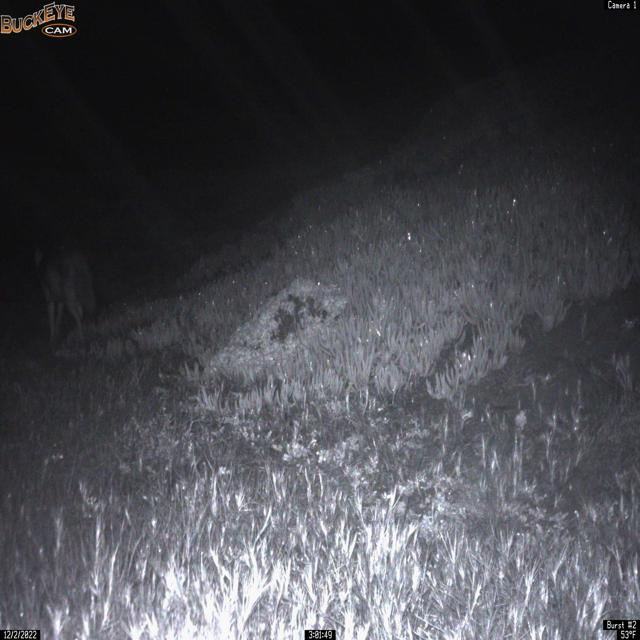coyote: (32, 242, 98, 350)
